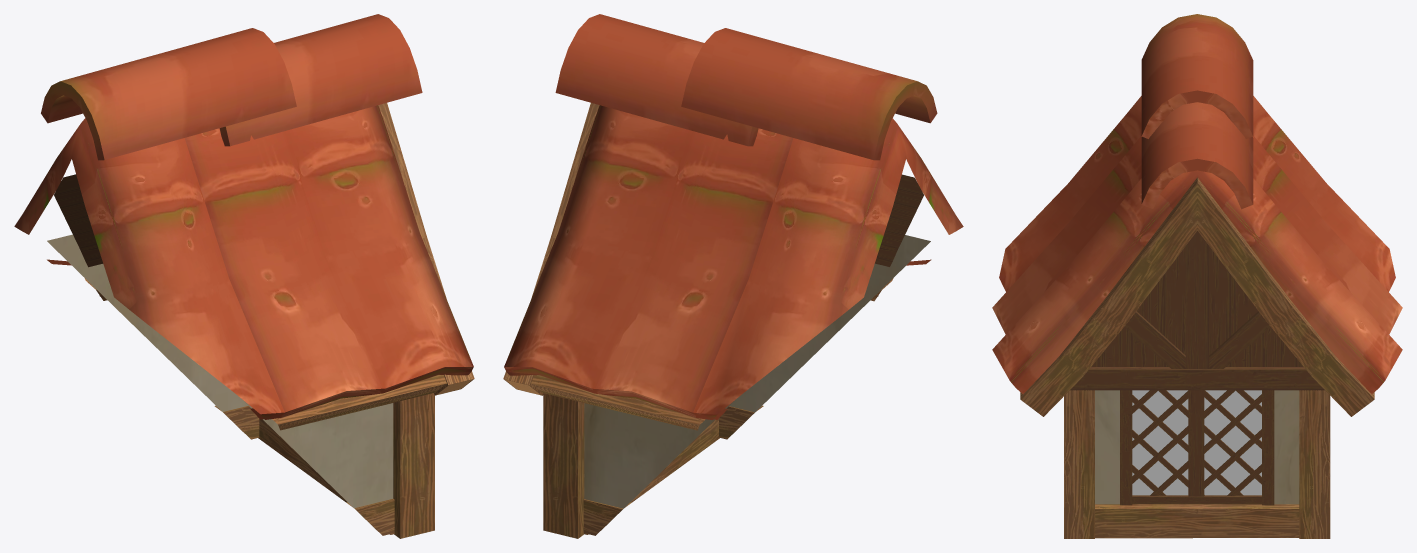
File: roof-dormer-roundtile.glb
The picture shows the model from 3 angles, left to right: view 1: azimuth 30°, elevation 25°; view 2: azimuth 150°, elevation 25°; view 3: azimuth 270°, elevation 25°; orthographic projection. The views are drawn at different scales.
Parts seen in each view (by area): view 1: Roof_Dormer_RoundTile; view 2: Roof_Dormer_RoundTile; view 3: Roof_Dormer_RoundTile.
Boxes of the visible parts, x1,y1,x2,y2 form: Roof_Dormer_RoundTile: [14, 14, 474, 538]; Roof_Dormer_RoundTile: [503, 14, 963, 538]; Roof_Dormer_RoundTile: [992, 14, 1402, 538].
Bounding box in the file's own units: 1.97 × 2.67 × 2.44.
Materials: 4 (3 with a texture image).
